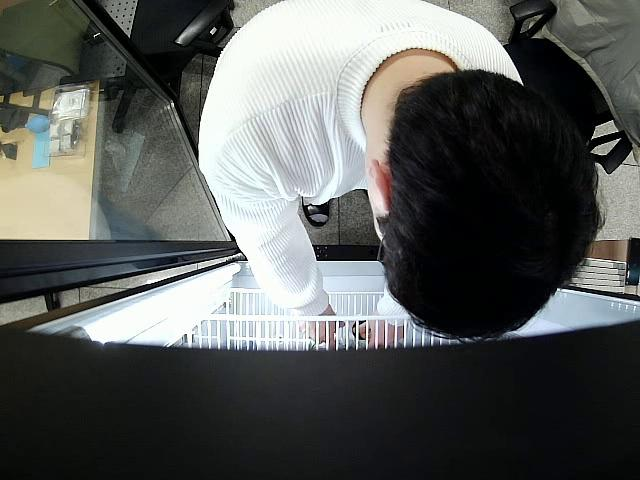00_hand: (299, 303, 347, 352), (366, 311, 405, 351)
17_vita500: (351, 319, 373, 341)
